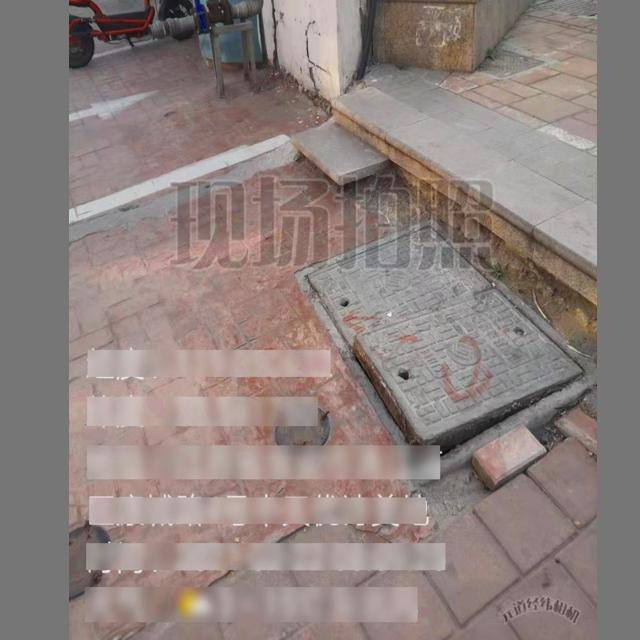uncovered: (291, 218, 595, 482)
